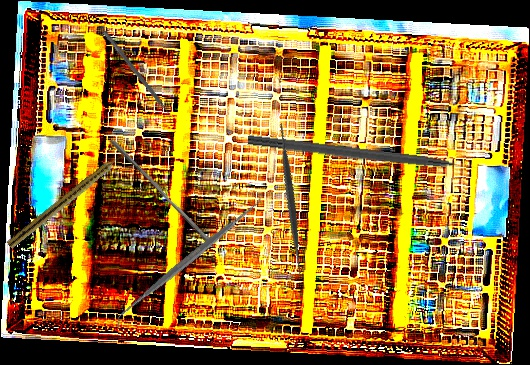Handpiece: (6, 150, 127, 252)
Hook Surgical: (247, 133, 480, 177)
Pusher: (105, 138, 215, 244)
Spatula Surgical: (208, 117, 373, 282), (106, 190, 271, 331), (98, 29, 177, 124)
